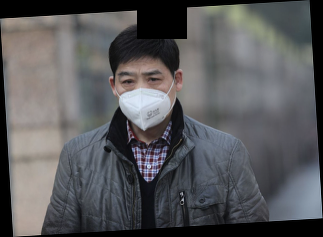with_mask: (115, 68, 178, 130)
